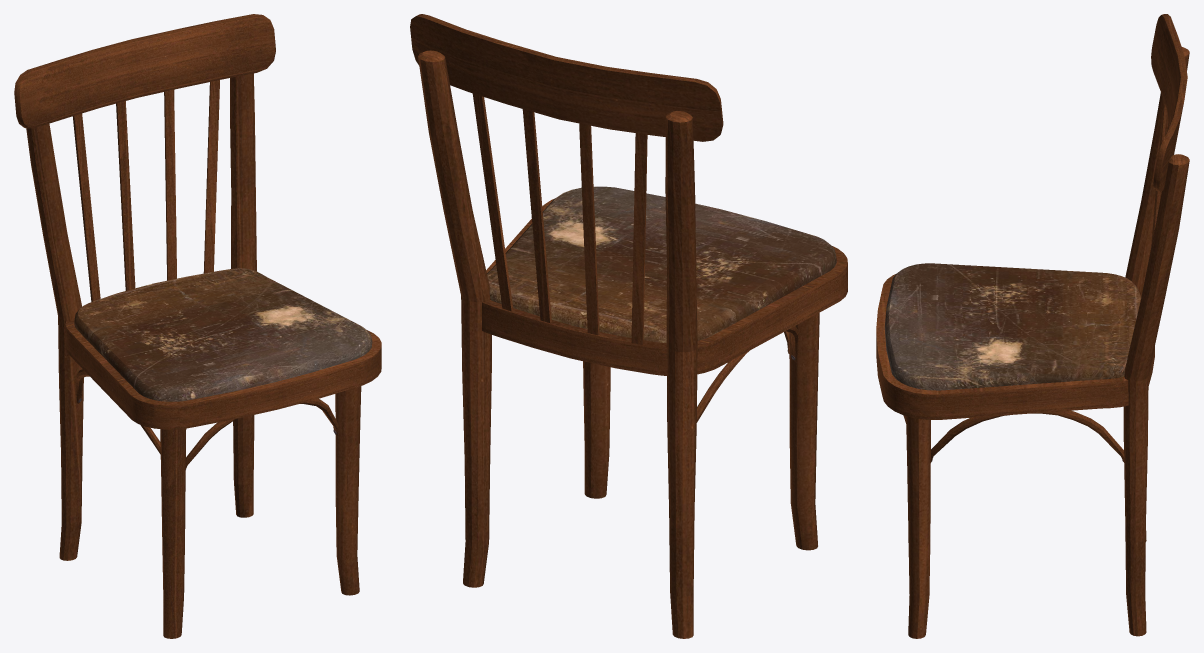
Rendered from chair_1.FBX.
3 views of the same model, side by side, from view 1: azimuth 30°, elevation 25°; view 2: azimuth 150°, elevation 25°; view 3: azimuth 270°, elevation 25° (orthographic). The views are drawn at different scales.
Visible parts, largest first — view 1: chair_1; view 2: chair_1; view 3: chair_1.
Part boxes in pixels (bbox=[...]): chair_1: bbox=[14, 14, 381, 638]; chair_1: bbox=[410, 14, 847, 638]; chair_1: bbox=[876, 14, 1189, 638].
Size of the model in its own units: 87.08 by 155 by 85.79.
